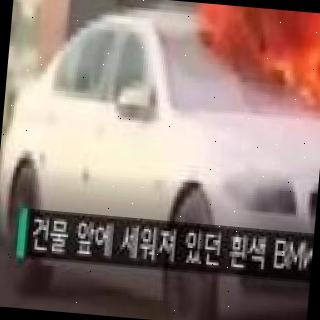fire: (203, 4, 320, 102)
